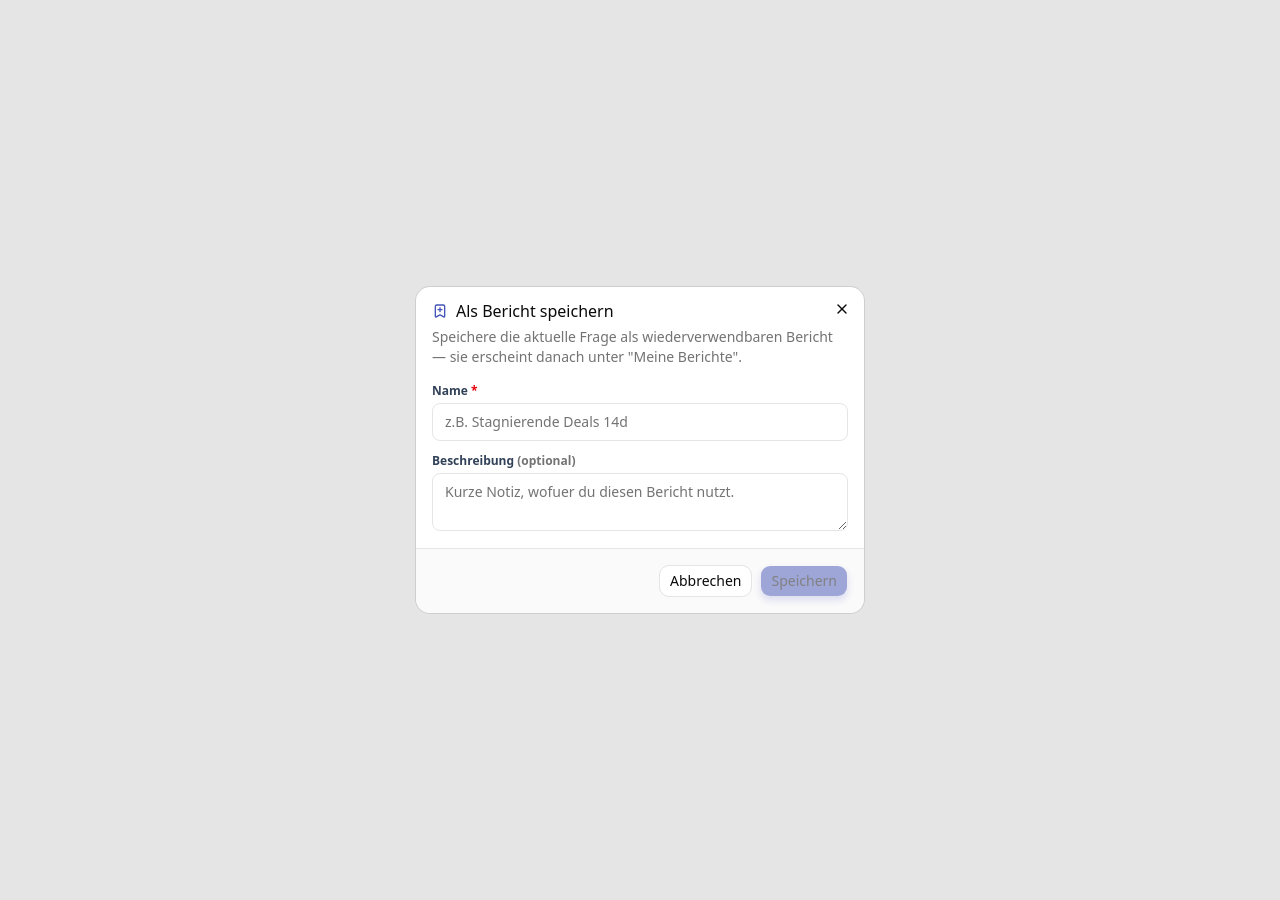
SaveCustomReportModal › Submit with duplicate_name shows inline error and keeps modal open
This screenshot has width=1280, height=900.
Type "Duplicate" into the field with test id "save-custom-report-name" at (640, 422), box [432, 403, 848, 441]
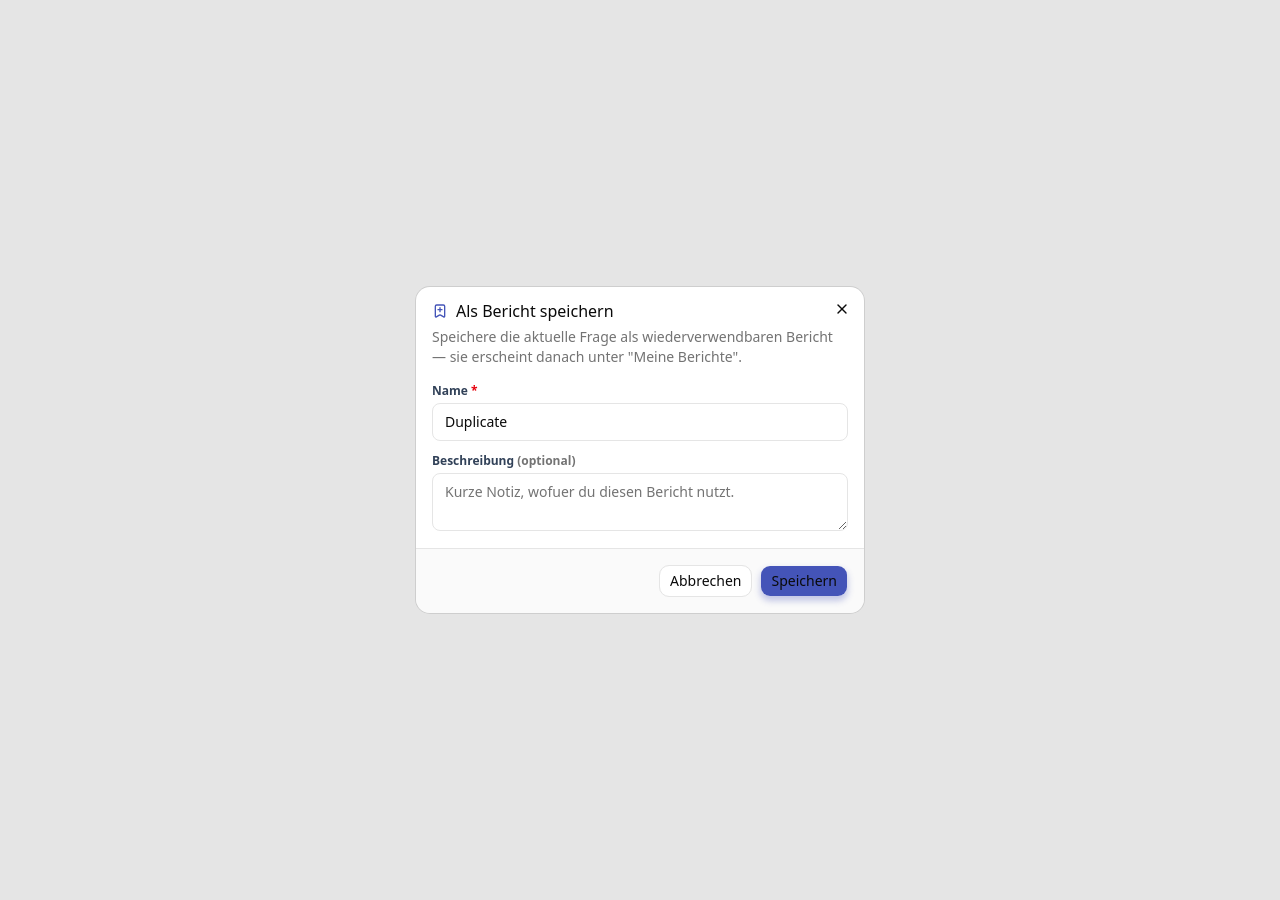
Submit the form with test id "save-custom-report-form", box [432, 383, 848, 597]
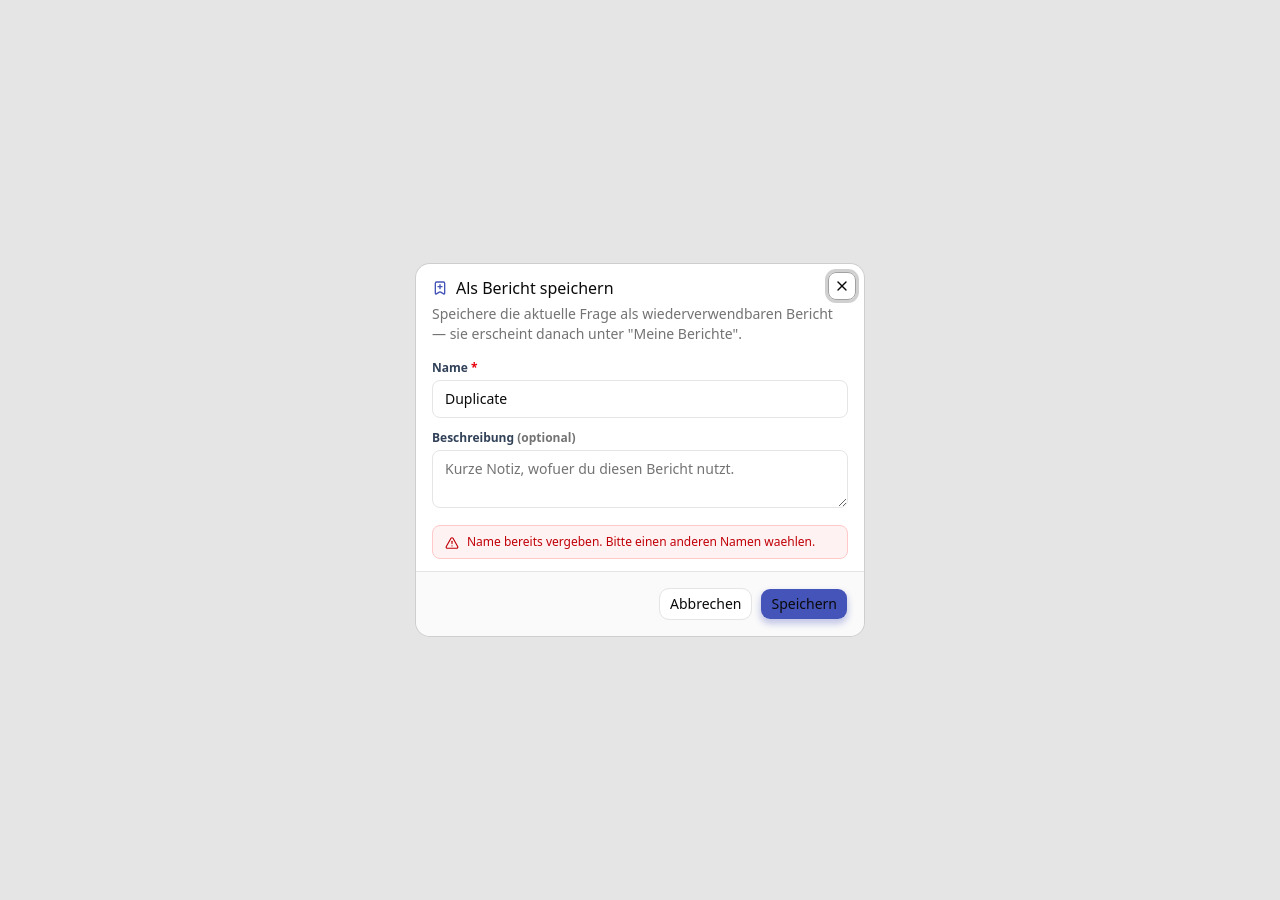
Expected: the message "Name bereits vergeben. Bitte einen anderen Namen waehlen." is shown, [432, 525, 848, 559]
Expected: the message with test id "save-custom-report-error" shows "bereits vergeben", [467, 533, 815, 550]
